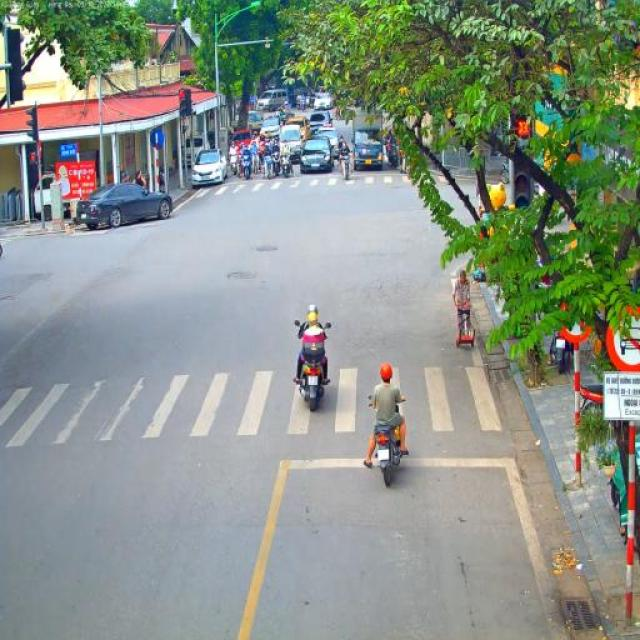car: (76, 181, 174, 230), (192, 148, 228, 186), (300, 136, 334, 174), (316, 126, 340, 166), (280, 125, 305, 163), (256, 88, 290, 113), (288, 115, 310, 146), (259, 117, 282, 144), (310, 109, 330, 137), (231, 129, 254, 150), (314, 92, 331, 110)
motorcycle: (293, 319, 332, 412), (368, 394, 407, 486), (550, 326, 574, 374), (580, 382, 605, 402), (279, 150, 295, 178), (340, 152, 354, 180), (259, 152, 273, 180), (240, 152, 252, 180), (272, 149, 282, 177), (400, 153, 412, 175), (250, 150, 260, 174), (390, 146, 401, 166), (230, 154, 239, 178), (278, 112, 288, 127), (238, 153, 244, 177), (296, 100, 302, 111), (302, 100, 307, 112)
truck: (34, 174, 76, 220), (352, 127, 384, 172), (248, 110, 263, 130)
